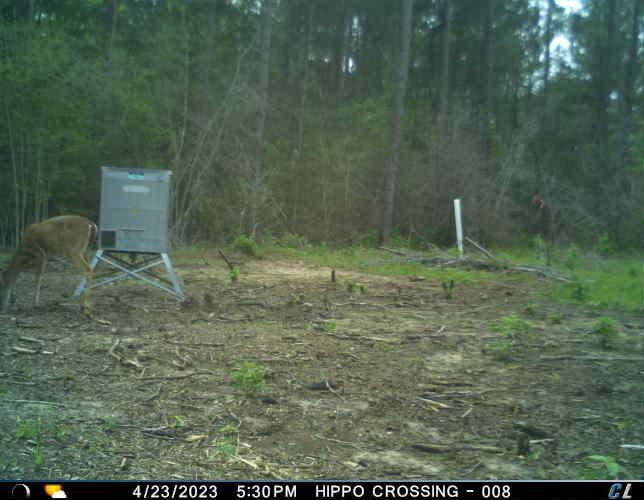Deer: (0, 212, 101, 321)
